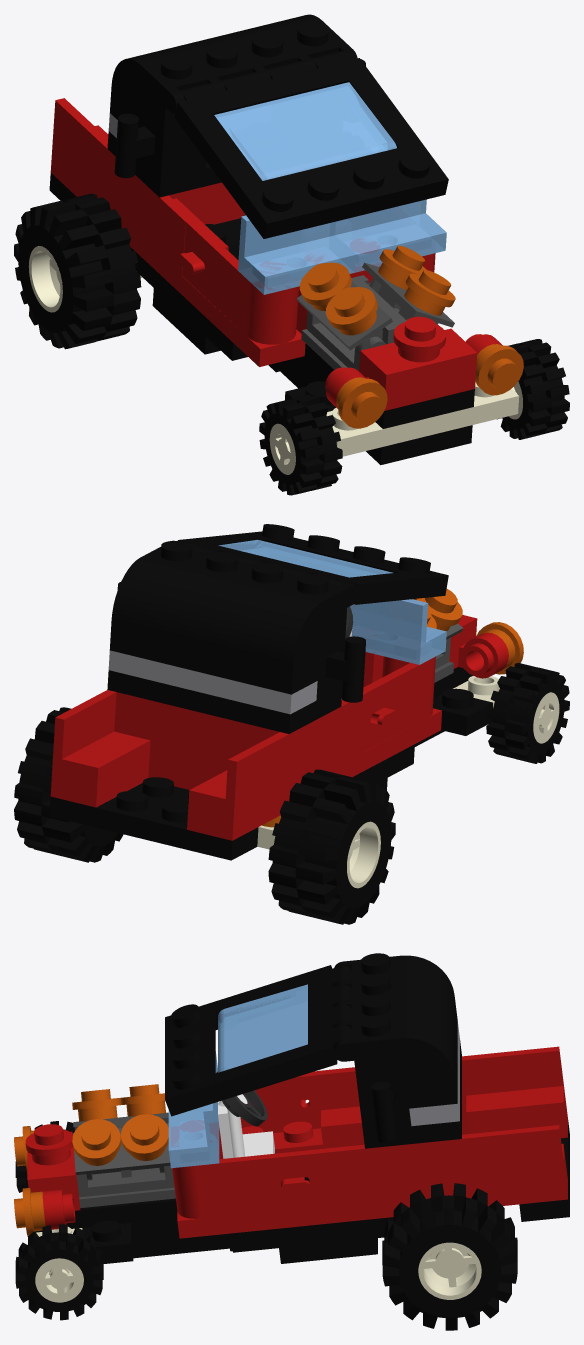
The model's file is LEGO Roadste2.fbx.
3 renders of one model, top to bottom at view 1: azimuth 30°, elevation 25°; view 2: azimuth 150°, elevation 25°; view 3: azimuth 270°, elevation 25°, orthographic. The views are drawn at different scales.
Parts seen in each view (by area): view 1: LEGO Roadster, 4865 - Panel 1 x 2 x 1 (×4), 3641 - Tire Small 14mm Offset Tread, 2348b - Glass for Hinge Car Roof 4 x 4 Sunroof with Ridges, 4315 - Hinge Plate 1 x 4 - Vehicle Roof Holder, 3821p01, 2926 - Plate 1 x 4 with Wheels Holder Modified, 6081 - Brick 2 x 4 x 1 & 13 with Curved Top, Modified, 4081b (×2), 3938 - Hinge Brick 1 x 2 Thin Top Plate (×2), 3937 - Hinge Brick 1 x 2 Base, 3023-old (×2); view 2: LEGO Roadster, 6081 - Brick 2 x 4 x 1 & 13 with Curved Top, Modified, 3641 - Tire Small 14mm Offset Tread (×2), 4865 - Panel 1 x 2 x 1 (×4), 4315 - Hinge Plate 1 x 4 - Vehicle Roof Holder, 3821p01, 2348b - Glass for Hinge Car Roof 4 x 4 Sunroof with Ridges, 4081b, 3023-old, 2926 - Plate 1 x 4 with Wheels Holder Modified, 3937 - Hinge Brick 1 x 2 Base; view 3: LEGO Roadster, 4865 - Panel 1 x 2 x 1 (×5), 3641 - Tire Small 14mm Offset Tread, 6081 - Brick 2 x 4 x 1 & 13 with Curved Top, Modified, 3822p01, 4315 - Hinge Plate 1 x 4 - Vehicle Roof Holder, 2348b - Glass for Hinge Car Roof 4 x 4 Sunroof with Ridges, 3937 - Hinge Brick 1 x 2 Base, 3821p01, 3829c01 - Tile Specialty 1 x 2 with Vehicle Steering Stand -, 3023-old, 3938 - Hinge Brick 1 x 2 Thin Top Plate (+1 smaller).
Part boxes in pixels (x1=…): LEGO Roadster: x1=28, y1=51, x2=569, y2=495; 4865 - Panel 1 x 2 x 1 (×4): x1=52, y1=98, x2=446, y2=294; 3641 - Tire Small 14mm Offset Tread: x1=14, y1=193, x2=141, y2=349; 2348b - Glass for Hinge Car Roof 4 x 4 Sunroof with Ridges: x1=214, y1=82, x2=396, y2=180; 4315 - Hinge Plate 1 x 4 - Vehicle Roof Holder: x1=139, y1=20, x2=357, y2=113; 3821p01: x1=178, y1=220, x2=298, y2=344; 2926 - Plate 1 x 4 with Wheels Holder Modified: x1=326, y1=381, x2=519, y2=456; 6081 - Brick 2 x 4 x 1 & 13 with Curved Top, Modified: x1=110, y1=14, x2=321, y2=125; 4081b (×2): x1=325, y1=334, x2=502, y2=410; 3938 - Hinge Brick 1 x 2 Thin Top Plate (×2): x1=297, y1=262, x2=454, y2=350; 3937 - Hinge Brick 1 x 2 Base: x1=301, y1=280, x2=398, y2=370; 3023-old (×2): x1=152, y1=201, x2=245, y2=354; LEGO Roadster: x1=49, y1=524, x2=569, y2=888; 6081 - Brick 2 x 4 x 1 & 13 with Curved Top, Modified: x1=109, y1=557, x2=346, y2=694; 3641 - Tire Small 14mm Offset Tread (×2): x1=14, y1=707, x2=395, y2=924; 4865 - Panel 1 x 2 x 1 (×4): x1=52, y1=599, x2=446, y2=820; 4315 - Hinge Plate 1 x 4 - Vehicle Roof Holder: x1=141, y1=540, x2=357, y2=621; 3821p01: x1=363, y1=656, x2=435, y2=751; 2348b - Glass for Hinge Car Roof 4 x 4 Sunroof with Ridges: x1=218, y1=539, x2=393, y2=577; 4081b: x1=449, y1=632, x2=508, y2=678; 3023-old: x1=148, y1=760, x2=214, y2=789; 2926 - Plate 1 x 4 with Wheels Holder Modified: x1=453, y1=676, x2=499, y2=707; 3937 - Hinge Brick 1 x 2 Base: x1=434, y1=637, x2=453, y2=682; LEGO Roadster: x1=14, y1=965, x2=569, y2=1320; 4865 - Panel 1 x 2 x 1 (×5): x1=168, y1=1046, x2=565, y2=1206; 3641 - Tire Small 14mm Offset Tread: x1=382, y1=1183, x2=517, y2=1330; 6081 - Brick 2 x 4 x 1 & 13 with Curved Top, Modified: x1=354, y1=955, x2=457, y2=1108; 3822p01: x1=172, y1=1149, x2=322, y2=1218; 4315 - Hinge Plate 1 x 4 - Vehicle Roof Holder: x1=333, y1=953, x2=402, y2=1061; 2348b - Glass for Hinge Car Roof 4 x 4 Sunroof with Ridges: x1=218, y1=984, x2=307, y2=1072; 3937 - Hinge Brick 1 x 2 Base: x1=76, y1=1165, x2=175, y2=1207; 3821p01: x1=240, y1=1071, x2=320, y2=1132; 3829c01 - Tile Specialty 1 x 2 with Vehicle Steering Stand -: x1=216, y1=1071, x2=274, y2=1158; 3023-old: x1=279, y1=1236, x2=377, y2=1263; 3938 - Hinge Brick 1 x 2 Thin Top Plate: x1=73, y1=1123, x2=170, y2=1180.
Bounding box in the file's own units: 56 × 49.04 × 91.08.
